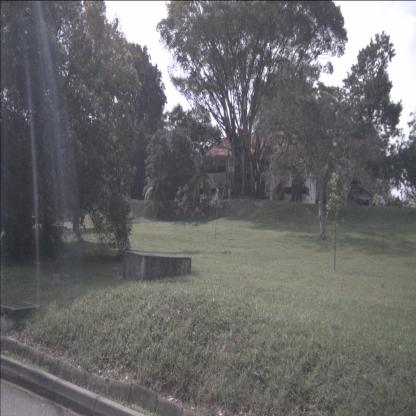vehicle-car: (386, 198, 402, 208), (358, 193, 370, 205), (374, 195, 386, 206), (402, 200, 416, 209)
